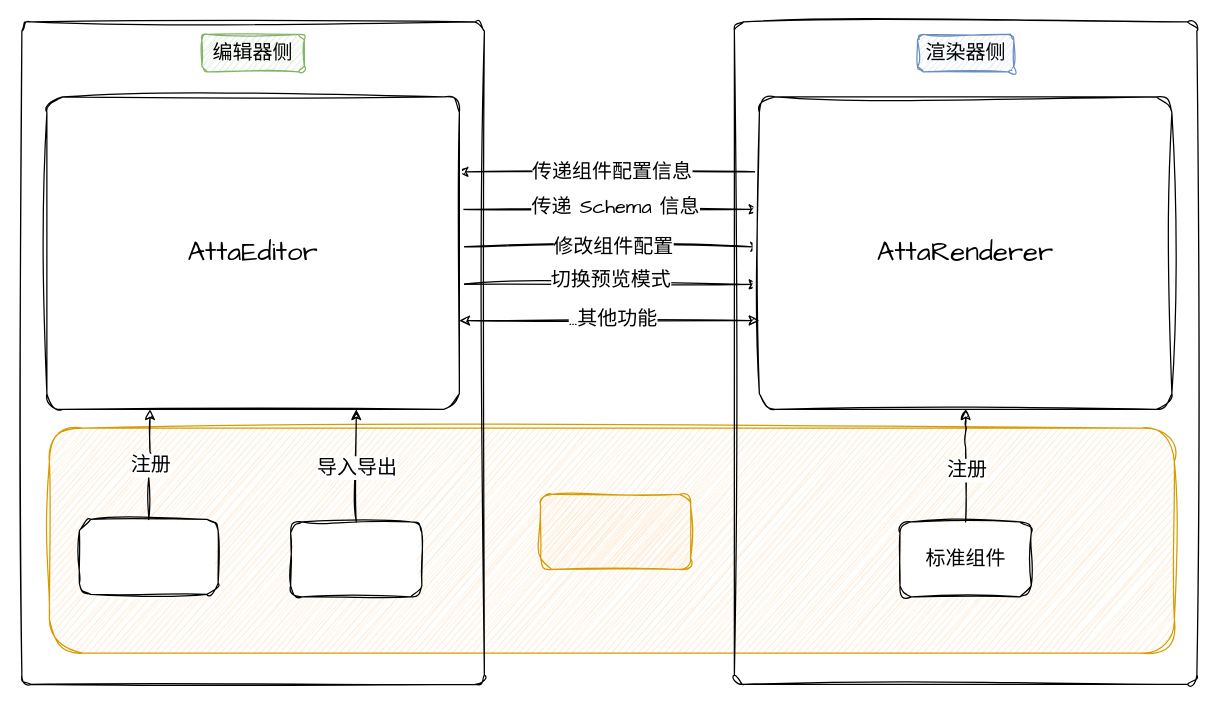
This 1219x706 diagram has some shape labels left out. Here are the shapes that lost their labels. From the top down, the box of each, then its label:
(539, 493, 691, 569): 接入成本
(78, 518, 218, 594): 标准配置组件
(289, 521, 422, 597): Schema
